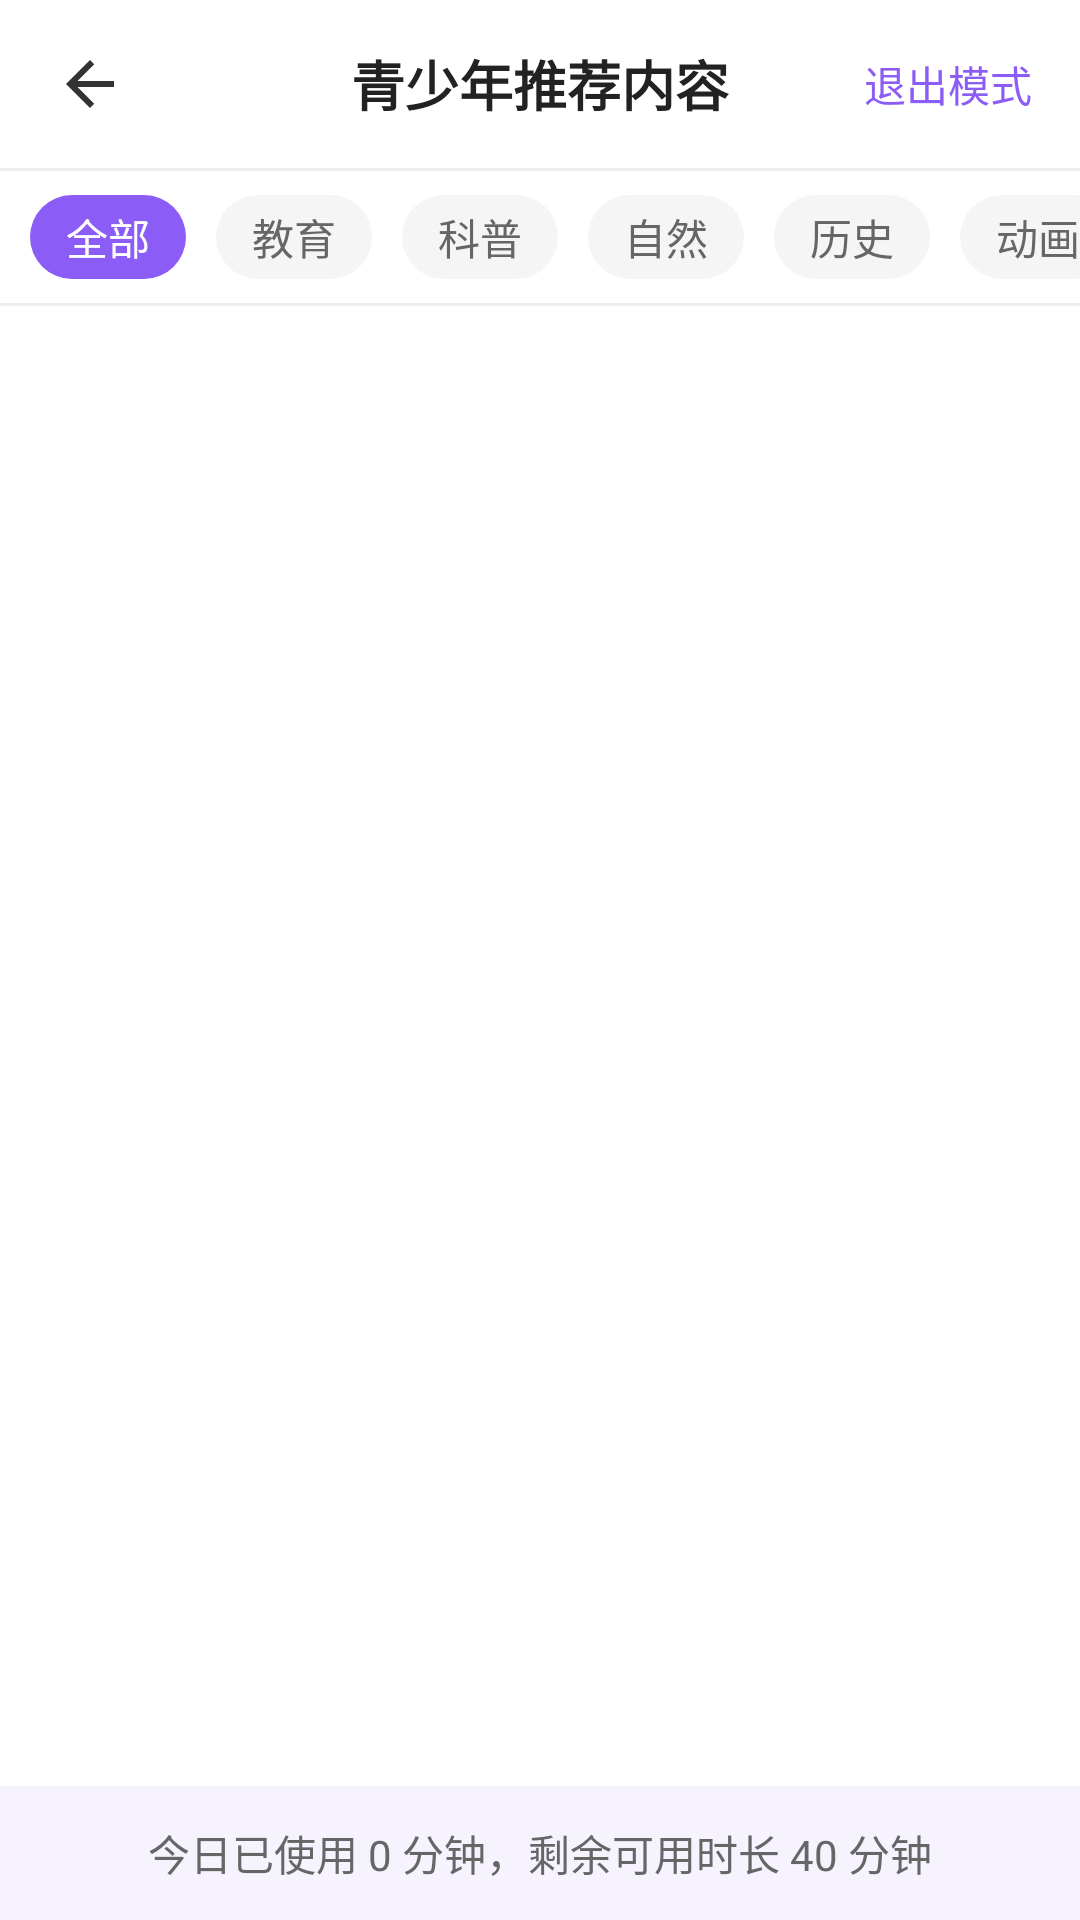

Where to tap for icons on this 1080w x 1920h app screen, as [x,y]:
back: [90,84]
